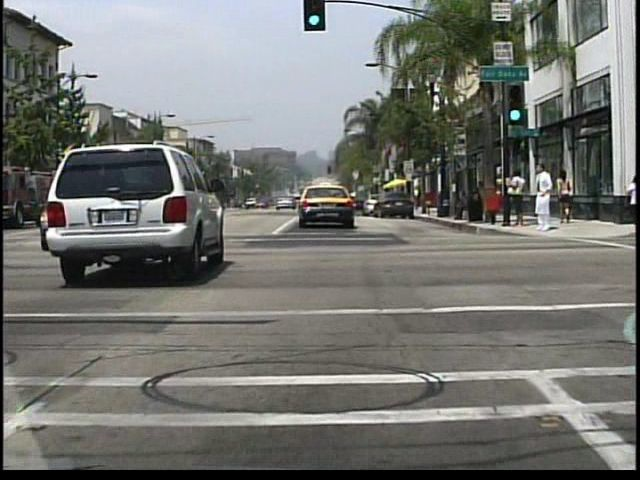person: (534, 164, 554, 233), (509, 167, 527, 232), (555, 169, 572, 226), (454, 188, 474, 220), (476, 179, 488, 219), (412, 186, 422, 213)
